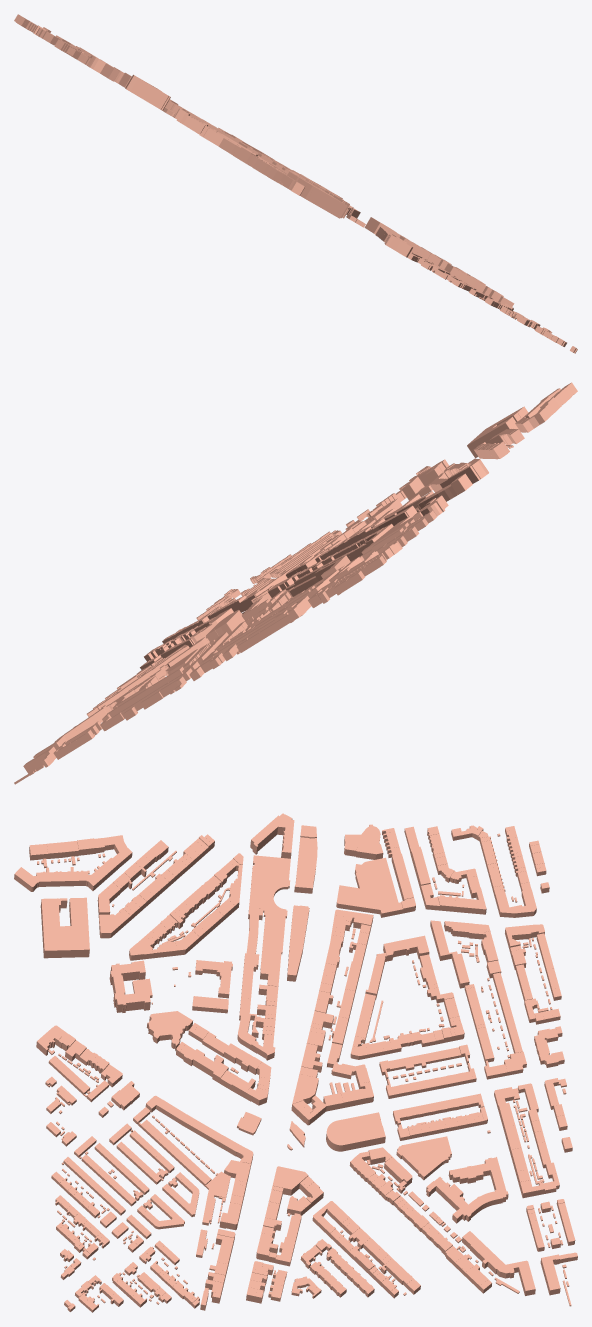
3 views of the same model, one above another, from view 1: azimuth 30°, elevation 25°; view 2: azimuth 150°, elevation 25°; view 3: azimuth 270°, elevation 25° (orthographic). The views are drawn at different scales.
Bounding box in the file's own units: 523 × 414 × 654.
